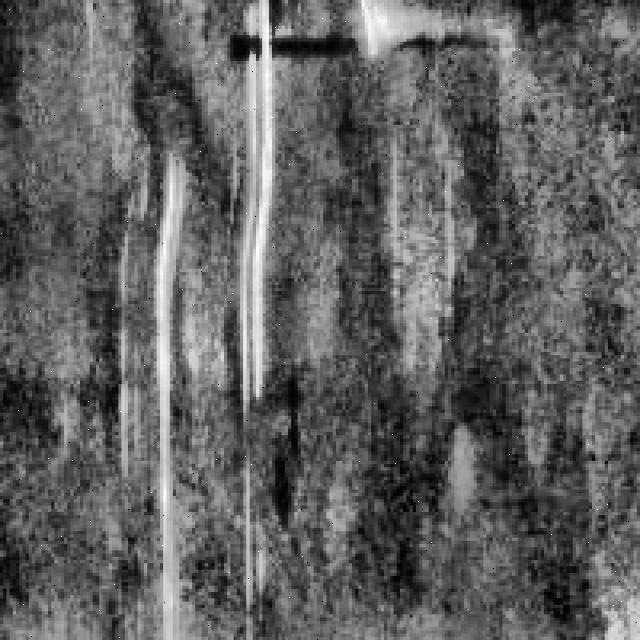Inclusion: (150, 157, 205, 630), (233, 6, 294, 413)
